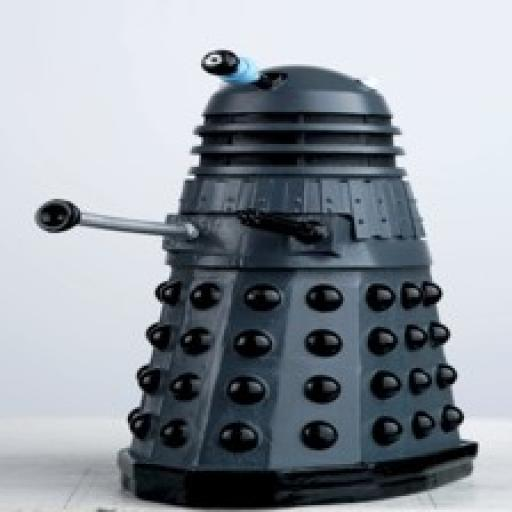dalek: (19, 37, 490, 505)
